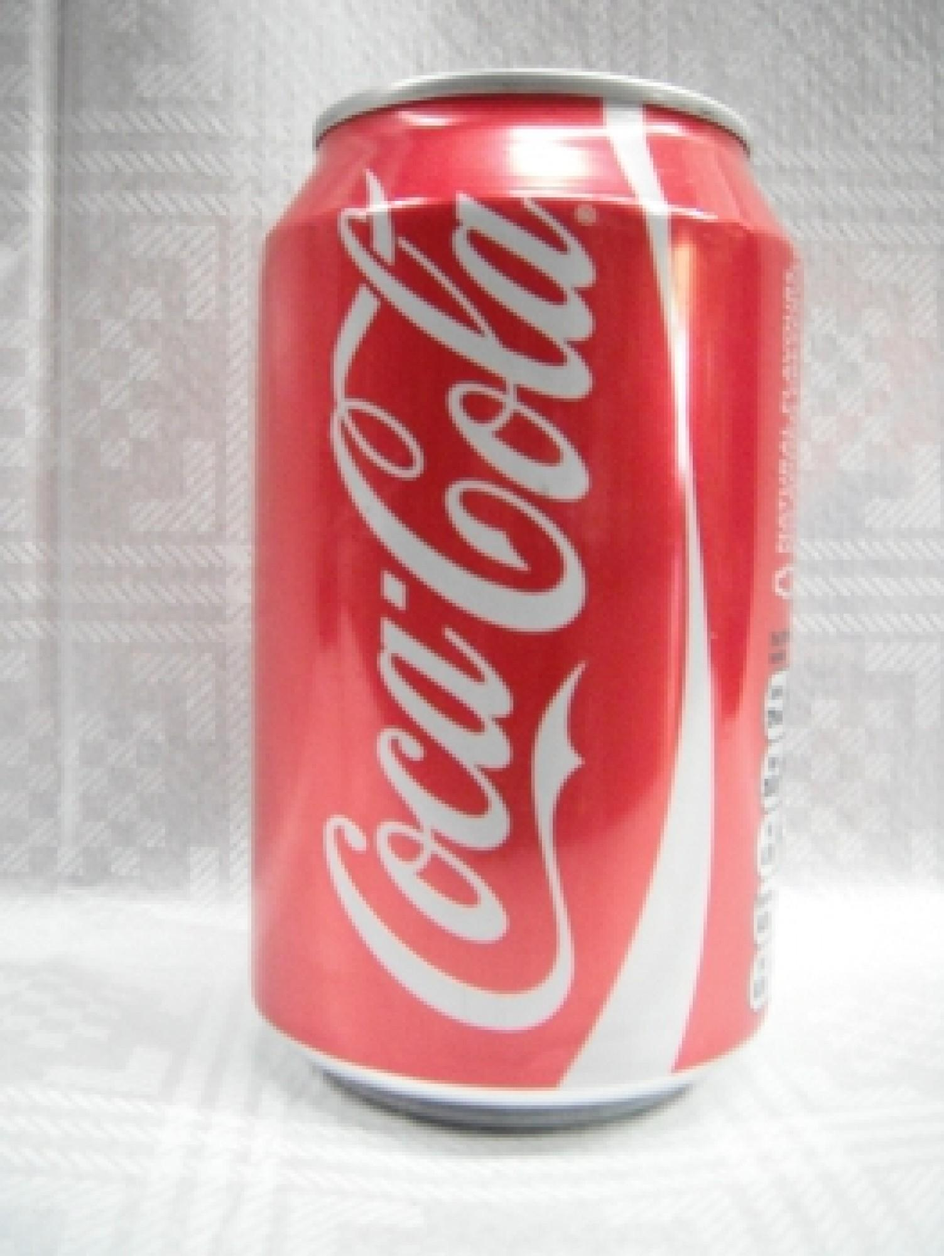metal: (252, 69, 795, 1124)
